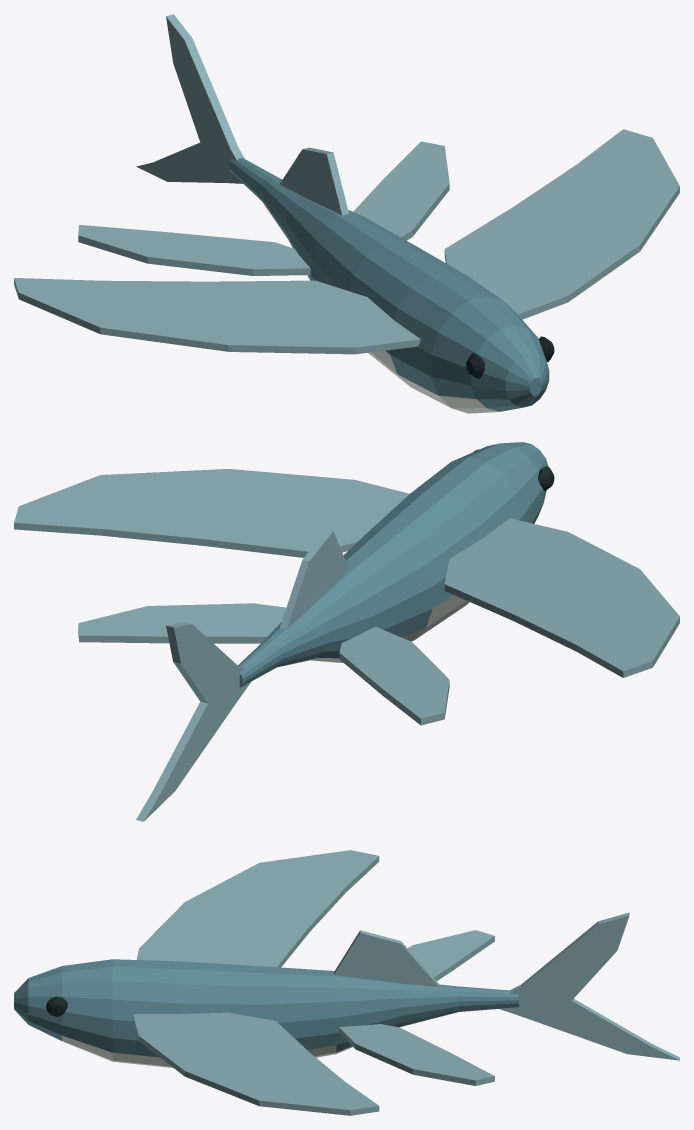
3 views of the same model, one above another, from view 1: azimuth 30°, elevation 25°; view 2: azimuth 150°, elevation 25°; view 3: azimuth 270°, elevation 25° (orthographic). The views are drawn at different scales.
Parts seen in each view (by area): view 1: WholeLongFusiformHeadTrunkAndPeduncle, WholeLongSweptPectoralWing1, WholeLongSweptPectoralWing0, WholeSeparateSweptPelvicWing0, WholeUnequalLowerLobeForkedCaudalFin, WholeSeparateSweptPelvicWing1, WholeSmallAftDorsalFin; view 2: WholeLongFusiformHeadTrunkAndPeduncle, WholeLongSweptPectoralWing1, WholeLongSweptPectoralWing0, WholeUnequalLowerLobeForkedCaudalFin, WholeSeparateSweptPelvicWing1, WholeSeparateSweptPelvicWing0, WholeSmallAftDorsalFin; view 3: WholeLongFusiformHeadTrunkAndPeduncle, WholeLongSweptPectoralWing0, WholeLongSweptPectoralWing1, WholeUnequalLowerLobeForkedCaudalFin, WholeSeparateSweptPelvicWing1, WholeSmallAftDorsalFin, WholeSeparateSweptPelvicWing0.
Boxes of the visible parts, x1,y1,x2,y2 form: WholeLongFusiformHeadTrunkAndPeduncle: [229, 158, 549, 413]; WholeLongSweptPectoralWing1: [444, 129, 679, 319]; WholeLongSweptPectoralWing0: [14, 278, 420, 354]; WholeSeparateSweptPelvicWing0: [78, 225, 310, 275]; WholeUnequalLowerLobeForkedCaudalFin: [136, 14, 244, 183]; WholeSeparateSweptPelvicWing1: [353, 141, 449, 240]; WholeSmallAftDorsalFin: [280, 147, 348, 215]; WholeLongFusiformHeadTrunkAndPeduncle: [238, 442, 548, 687]; WholeLongSweptPectoralWing1: [14, 469, 409, 557]; WholeLongSweptPectoralWing0: [444, 518, 679, 677]; WholeUnequalLowerLobeForkedCaudalFin: [136, 622, 251, 821]; WholeSeparateSweptPelvicWing1: [78, 603, 285, 643]; WholeSeparateSweptPelvicWing0: [339, 626, 449, 725]; WholeSmallAftDorsalFin: [279, 529, 348, 629]; WholeLongFusiformHeadTrunkAndPeduncle: [14, 959, 518, 1067]; WholeLongSweptPectoralWing0: [136, 850, 379, 967]; WholeLongSweptPectoralWing1: [133, 1012, 379, 1115]; WholeUnequalLowerLobeForkedCaudalFin: [499, 912, 679, 1060]; WholeSeparateSweptPelvicWing1: [339, 1024, 494, 1085]; WholeSmallAftDorsalFin: [334, 930, 438, 987]; WholeSeparateSweptPelvicWing0: [408, 930, 494, 981].
Bounding box in the file's own units: 2.56 × 0.69 × 2.77.
